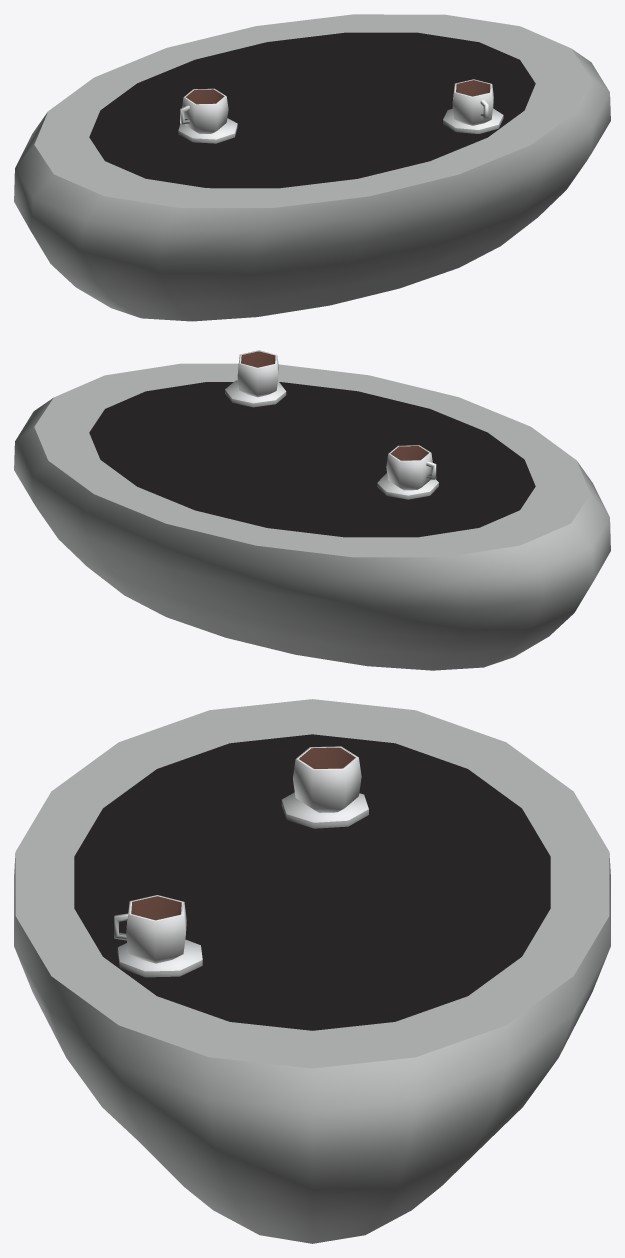
The model's file is M_chaji01.FBX.
3 renders of one model, top to bottom at view 1: azimuth 30°, elevation 25°; view 2: azimuth 150°, elevation 25°; view 3: azimuth 270°, elevation 25°, orthographic. The views are drawn at different scales.
Parts seen in each view (by area): view 1: M_chaji01_01, M_chaji01_02; view 2: M_chaji01_01, M_chaji01_02; view 3: M_chaji01_01, M_chaji01_02.
Boxes of the visible parts, <box> form: M_chaji01_01: <box>14,14,610,321</box>; M_chaji01_02: <box>89,32,535,188</box>; M_chaji01_01: <box>14,350,610,670</box>; M_chaji01_02: <box>89,382,535,537</box>; M_chaji01_01: <box>14,699,610,1243</box>; M_chaji01_02: <box>74,734,550,1030</box>.
Bounding box in the file's own units: 2.43 × 0.754 × 1.52.
